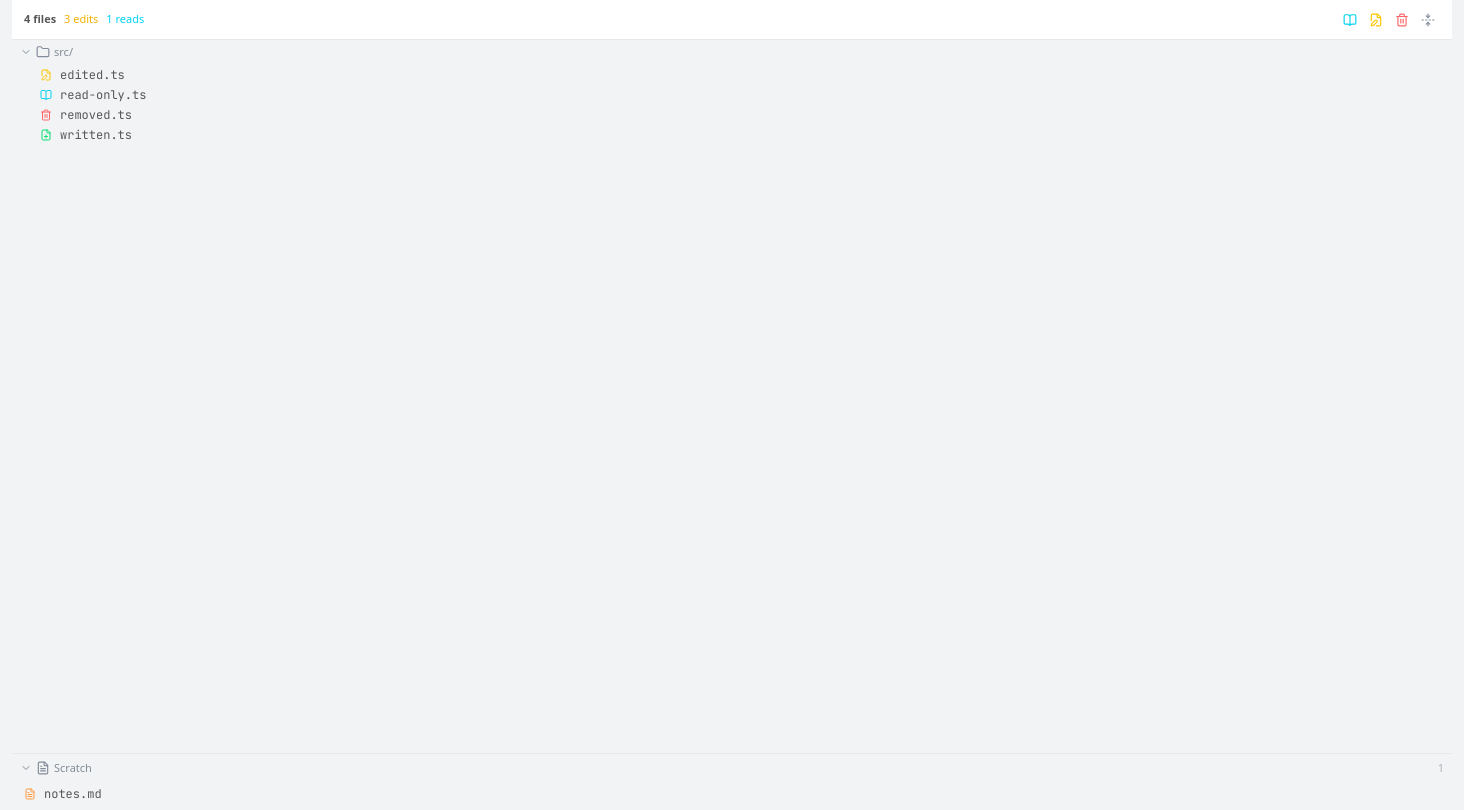
FileAccessTree scratch section › hides the scratch list when the section is collapsed
Click the button with aria-label "Collapse Scratch": (73, 767) [12, 754, 1448, 782]
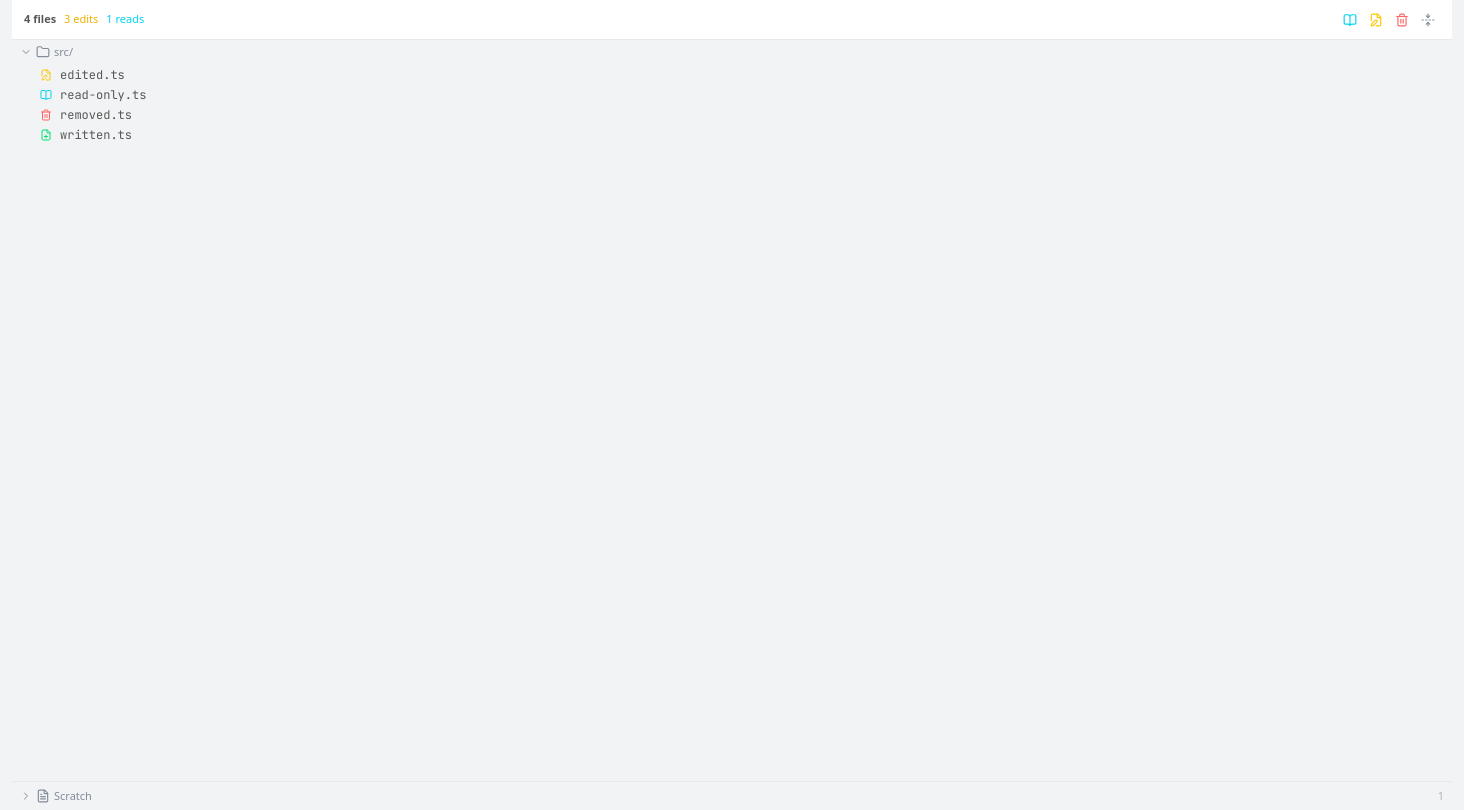
Expected: the text "notes.md" is gone
